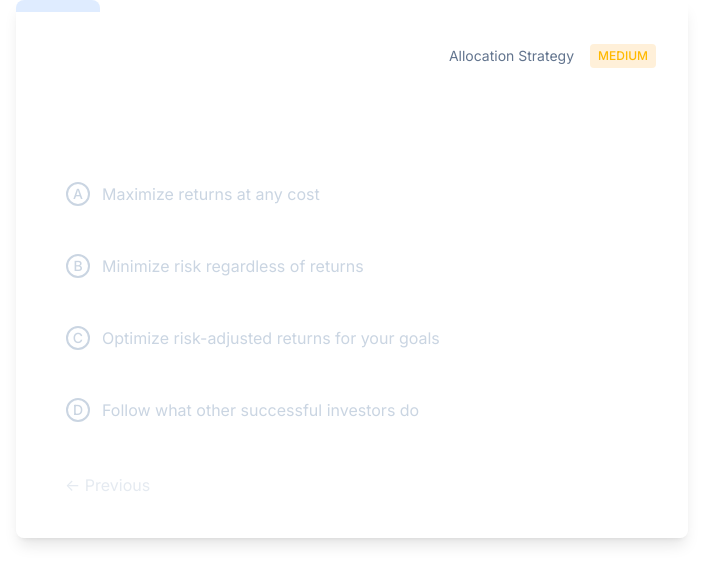
PortfolioConstructionQuizEnhanced › enables submit button after selecting an answer
Click the button "A Maximize returns at any cost" at x=211, y=194, box [48,164,656,224]
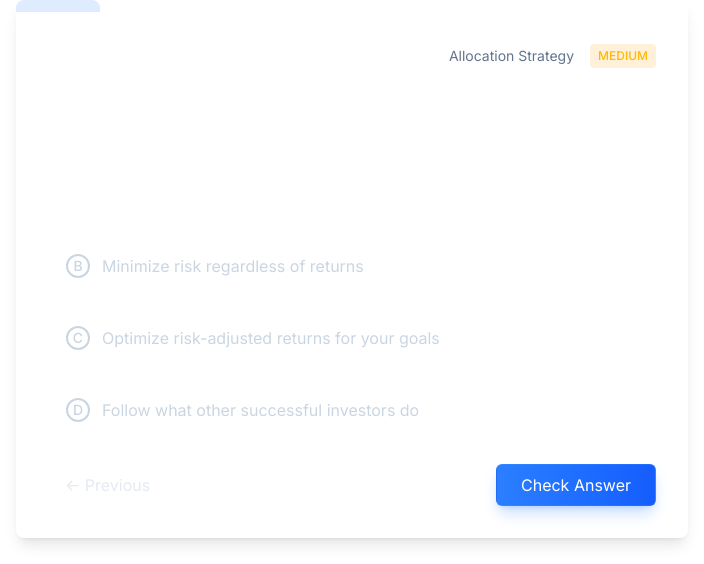
expect the button "Check Answer" is enabled: met, box [496,464,656,506]
